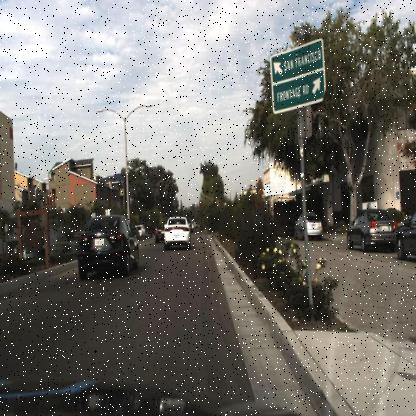car: (67, 206, 142, 288), (344, 204, 400, 262), (7, 217, 62, 272), (158, 202, 196, 256), (292, 208, 322, 241), (150, 214, 164, 247), (154, 221, 164, 246)
truck: (273, 200, 297, 233)
